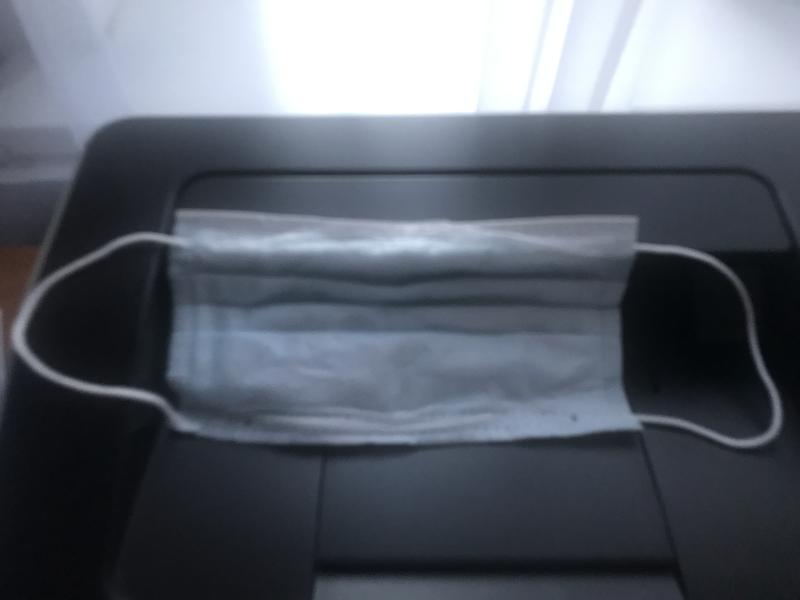medical_mask: (12, 209, 784, 448)
